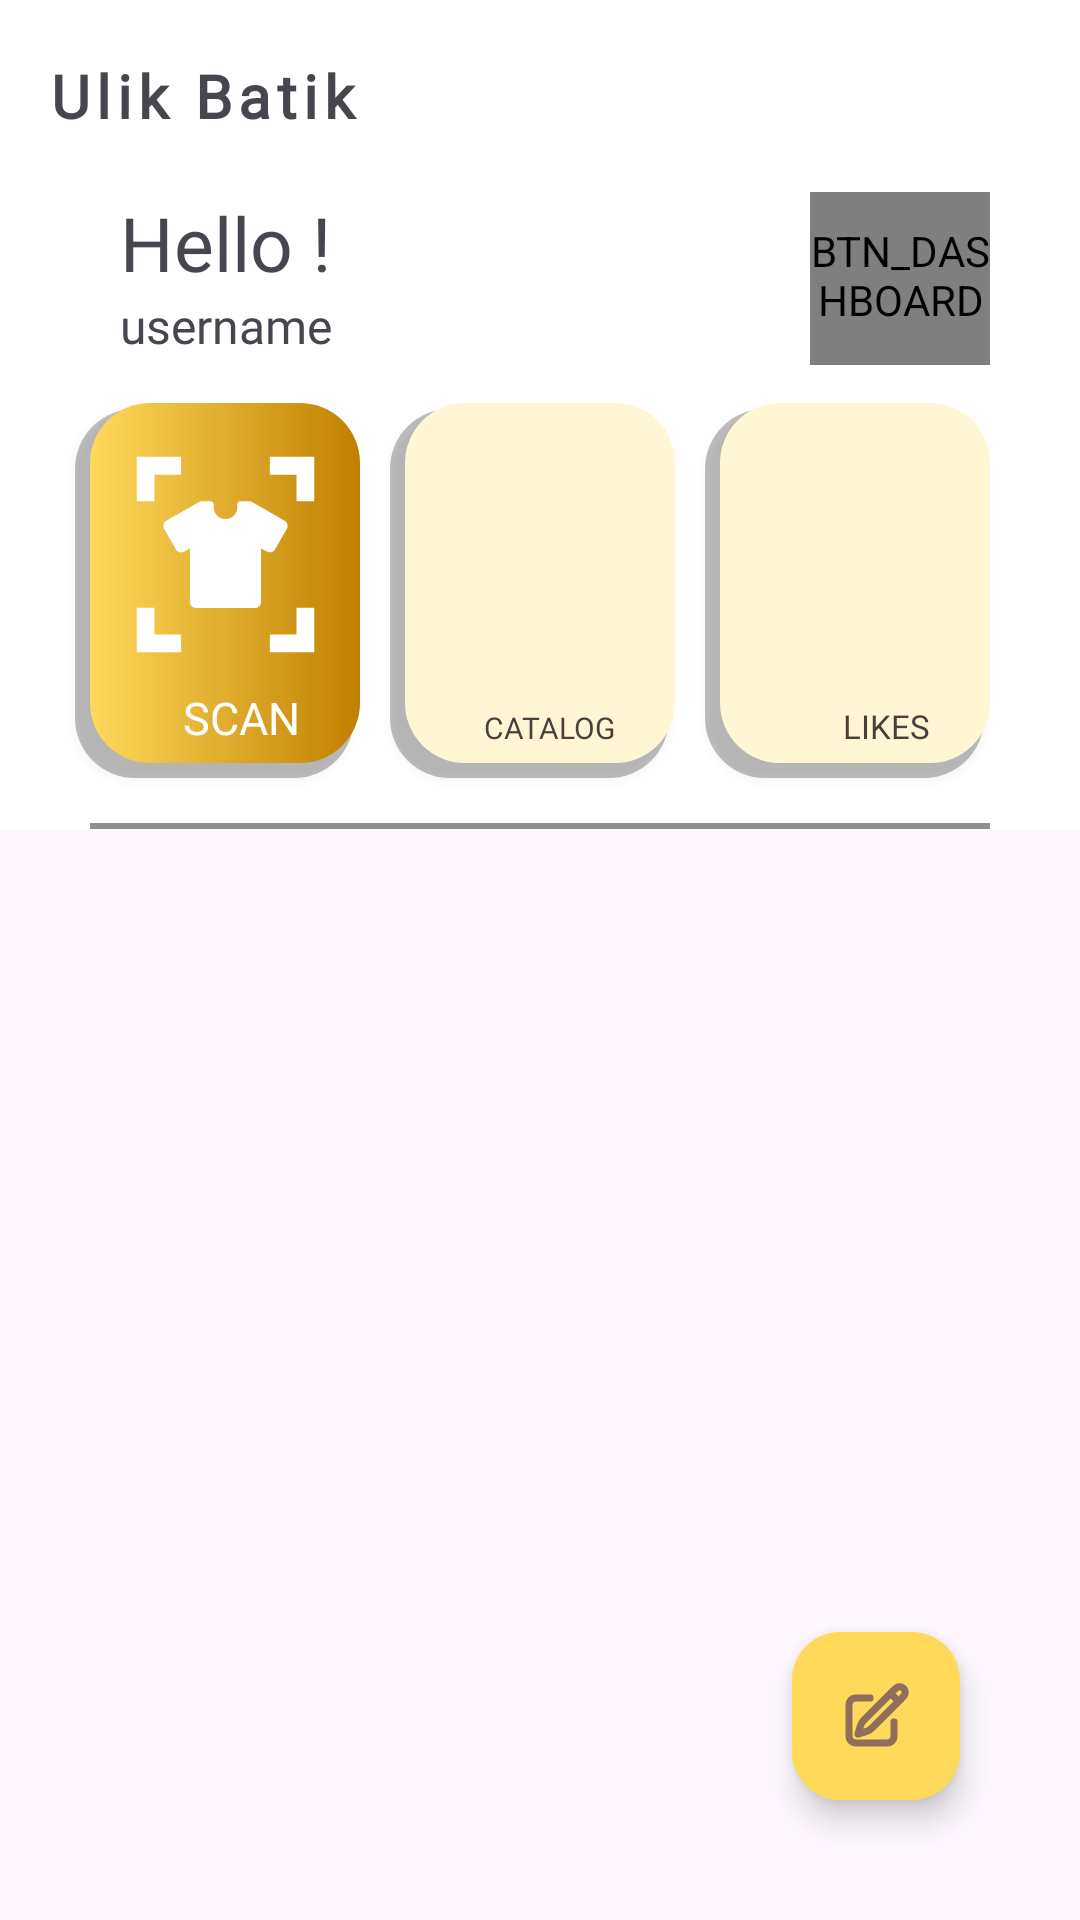

Screen size 1080 x 1920. Icon name, then its center in pixels as [x,y]:
add post: [876,1716]
